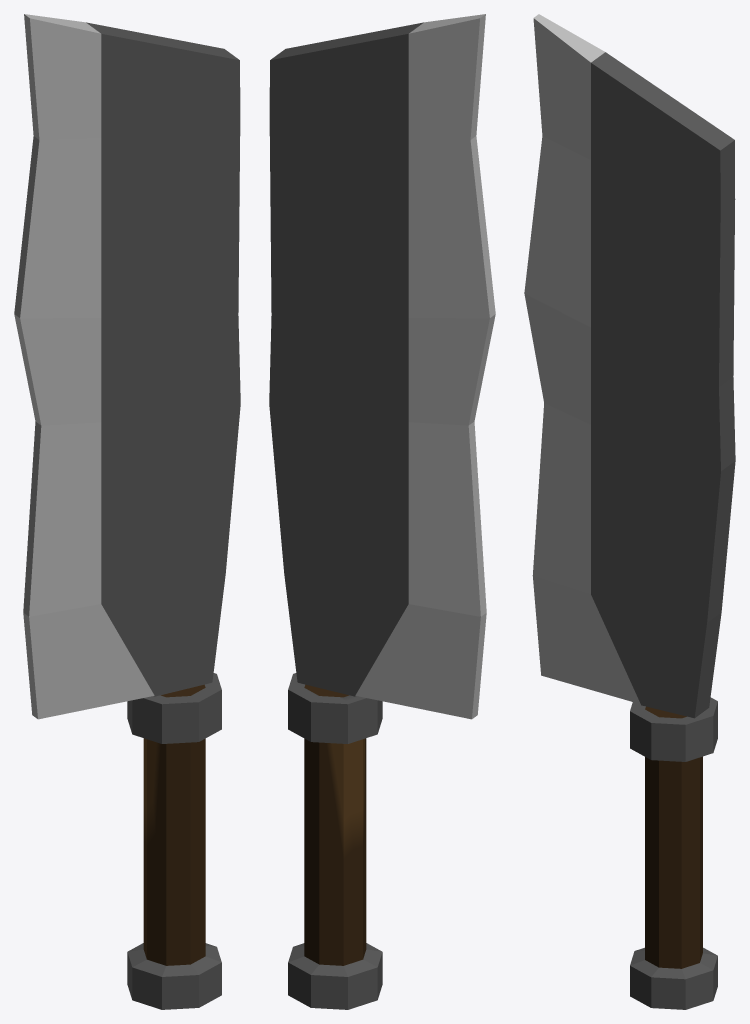
The model's file is Crude Iron Cleaver.fbx.
3 renders of one model, left to right at view 1: azimuth 30°, elevation 25°; view 2: azimuth 150°, elevation 25°; view 3: azimuth 330°, elevation 25°, orthographic. The views are drawn at different scales.
Parts seen in each view (by area): view 1: Blade, Handle; view 2: Blade, Handle; view 3: Blade, Handle.
Boxes of the visible parts, x1,y1,x2,y2 form: Blade: (14, 14, 240, 719); Handle: (127, 673, 221, 1009); Blade: (269, 14, 495, 719); Handle: (288, 673, 382, 1009); Blade: (524, 14, 735, 718); Handle: (630, 697, 717, 1009).
Size of the model in its own units: 23.31 by 105 by 9.14.
